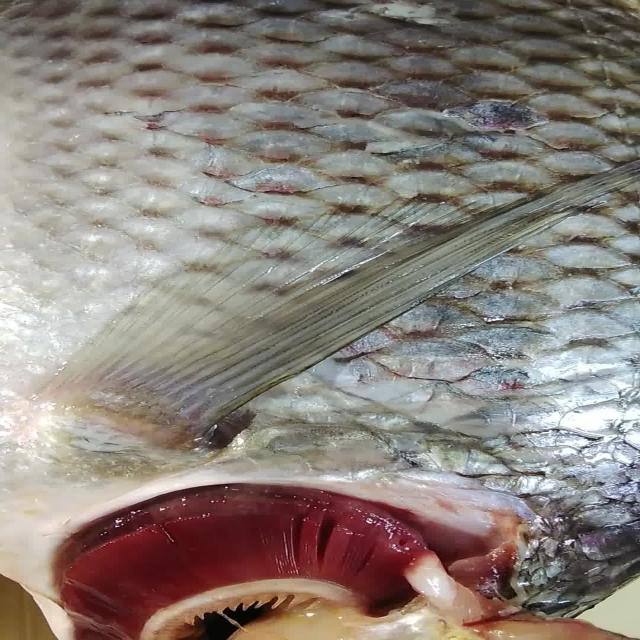Fresh: (23, 0, 640, 466), (14, 485, 498, 640)
